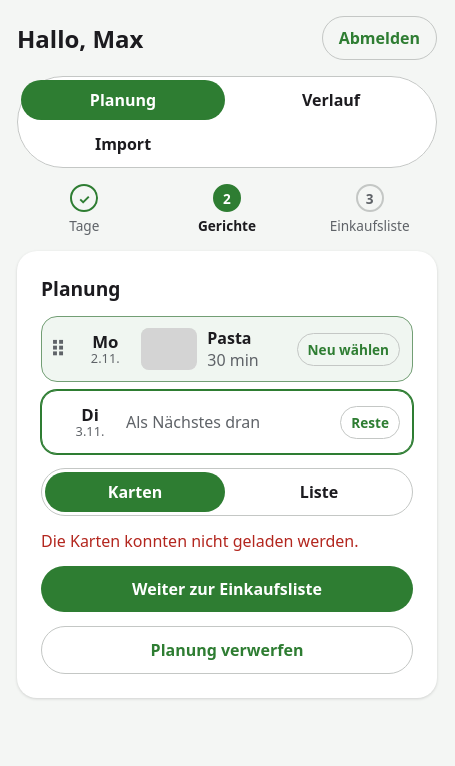
Test: the finalize panel › draws the icon from KitchenOwl's own icon font by the item's key
Click the button "Weiter zur Einkaufsliste" at [227, 589], box top-left (41, 566), bottom-right (413, 612)
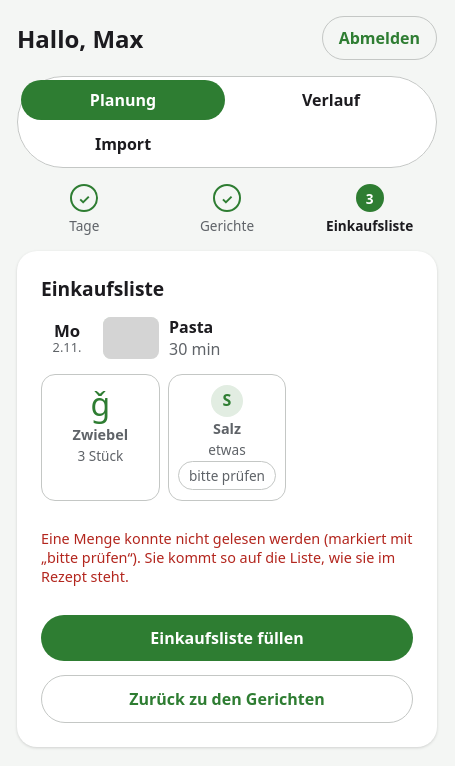
Now the 1st icon is shown, box top-left (90, 385), bottom-right (110, 423)
